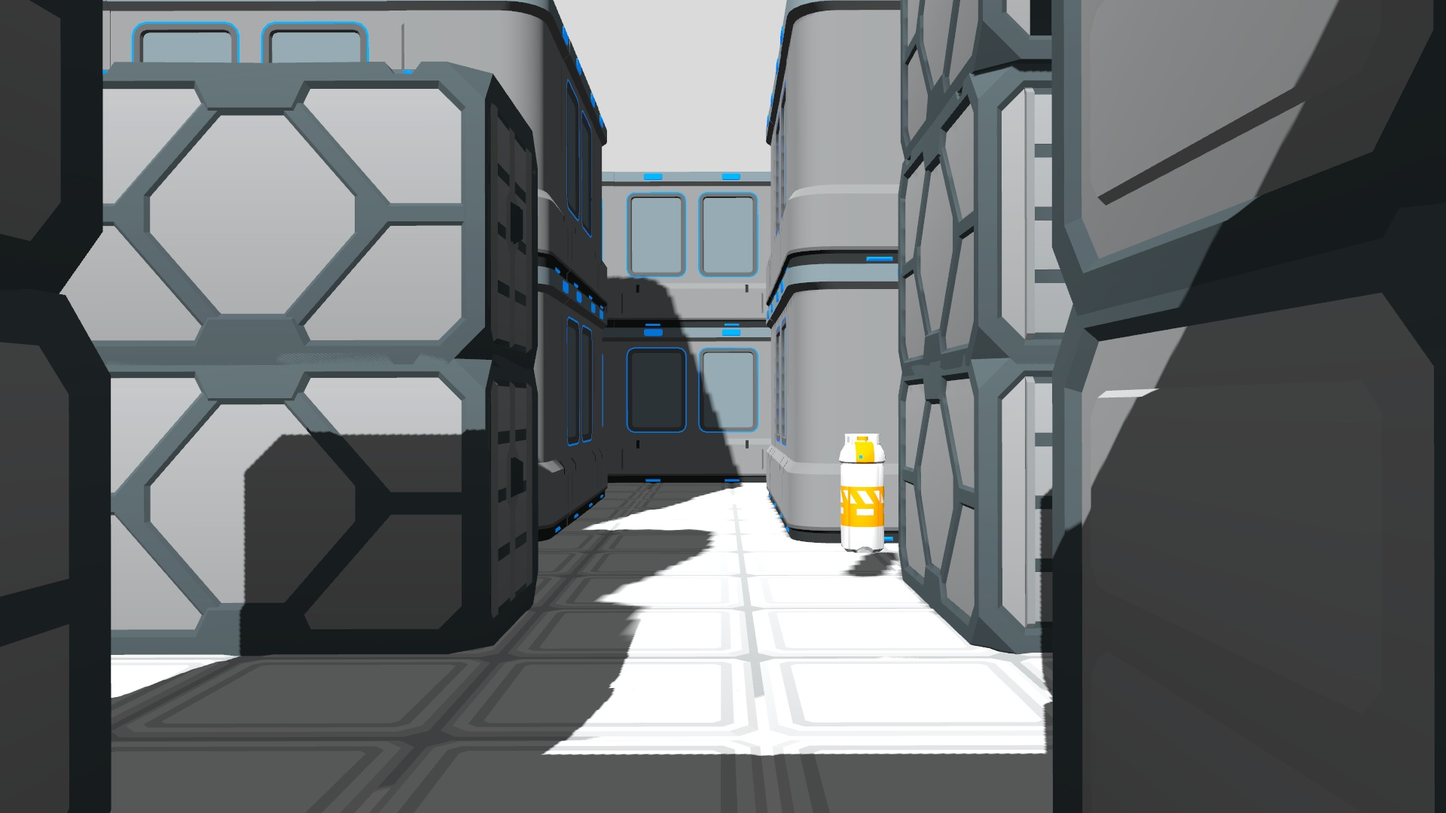yellow_barrel: (833, 423, 892, 556)
